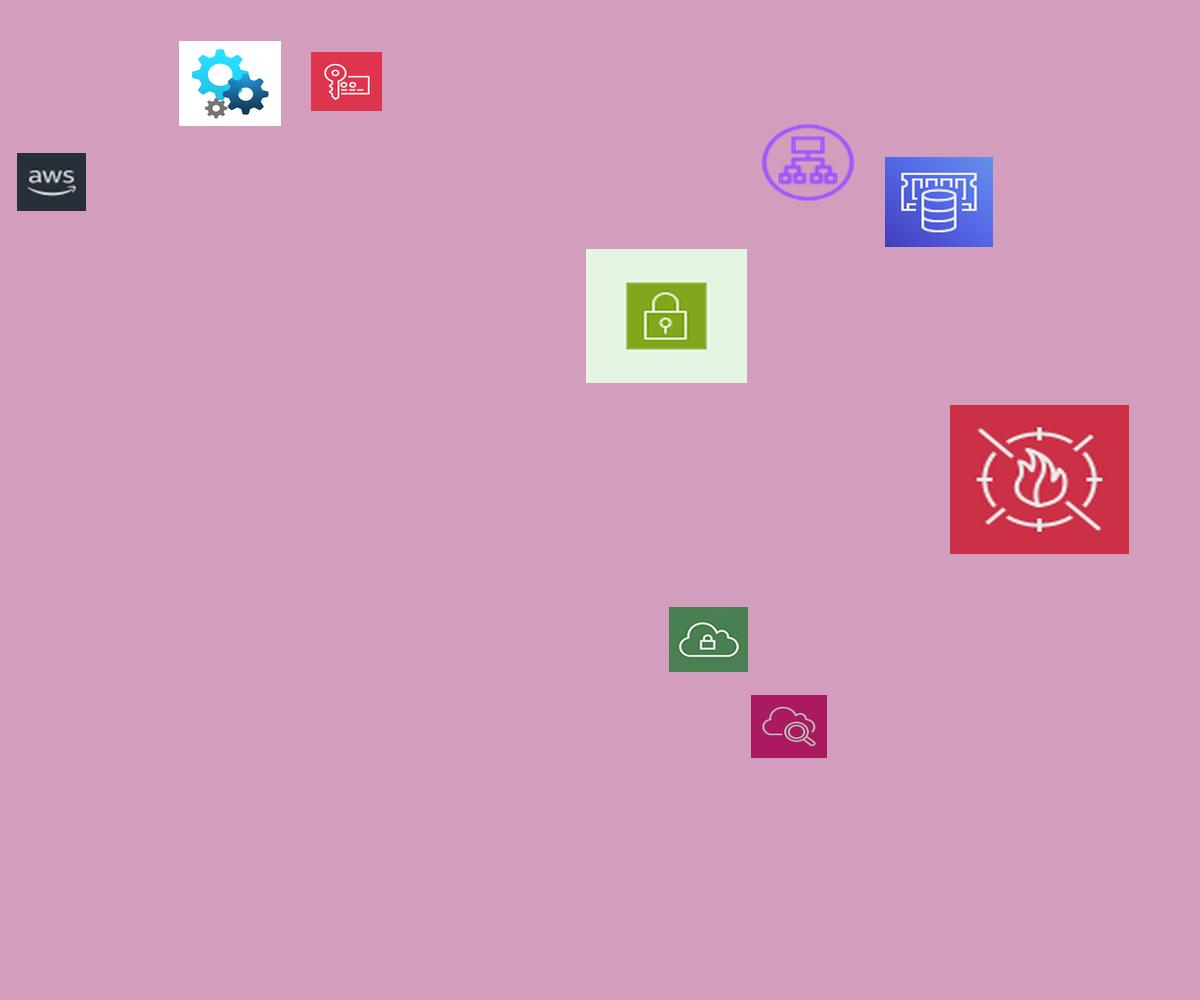AWS-Cloud-logo: (17, 153, 86, 211)
AWS-CloudWatch: (751, 695, 827, 758)
AWS-ElastiCache: (885, 157, 993, 247)
AWS-Key-Management-Service: (311, 52, 382, 111)
AWS-Private_vpc: (669, 607, 748, 672)
AWS-Public-subnet: (586, 249, 747, 383)
AWS-Res_Elastic-Load-Balancing_Application-Load-Balancer: (758, 121, 858, 204)
AWS-WAF: (950, 405, 1129, 554)
Azure_api: (179, 41, 281, 126)
